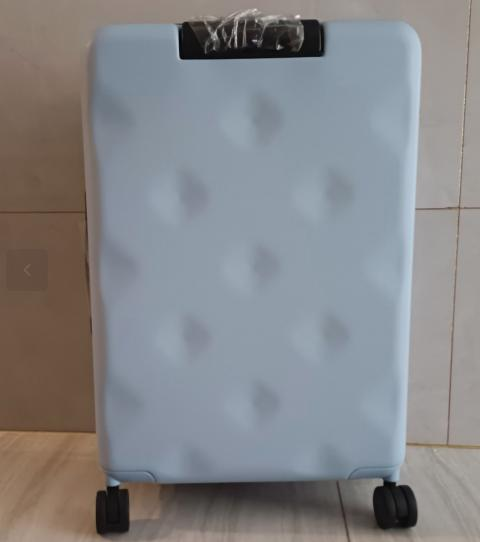box: (81, 20, 420, 483)
wheel: (372, 483, 418, 529), (95, 487, 129, 536)
